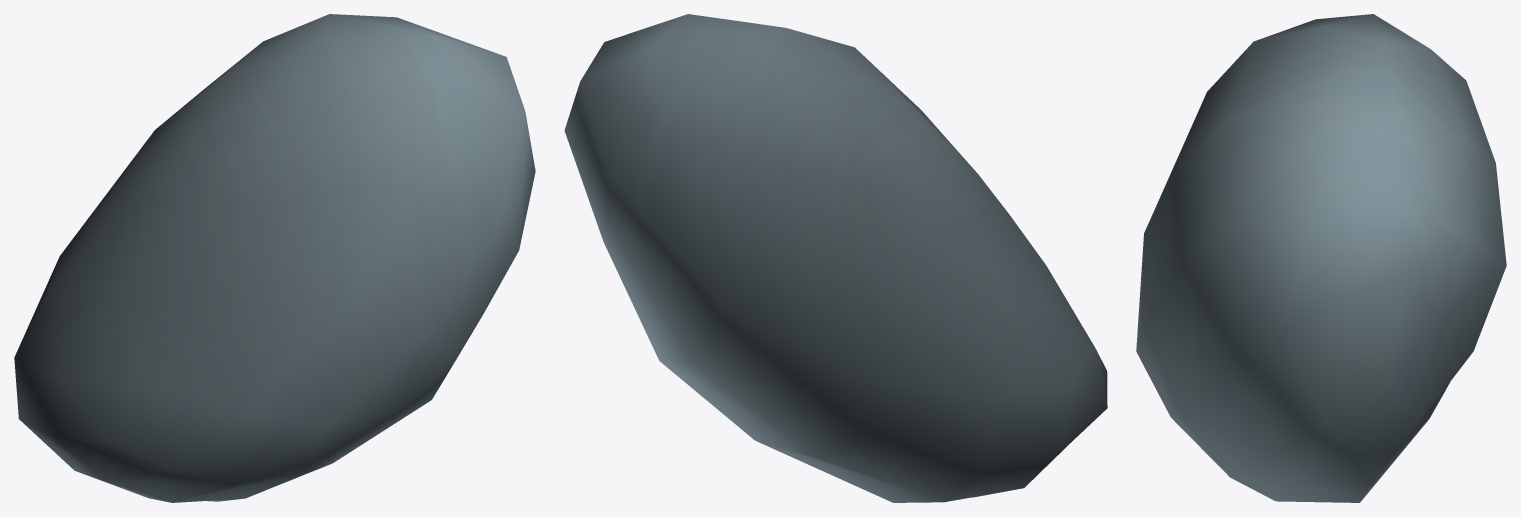
The model's file is Rock-Smooth-2.fbx.
The picture shows the model from 3 angles, left to right: view 1: azimuth 30°, elevation 25°; view 2: azimuth 150°, elevation 25°; view 3: azimuth 270°, elevation 25°; orthographic projection. The views are drawn at different scales.
Parts seen in each view (by area): view 1: Rock-Smooth-2; view 2: Rock-Smooth-2; view 3: Rock-Smooth-2.
Part boxes in pixels (x1,y1,x2,y2): Rock-Smooth-2: (14, 14, 535, 502); Rock-Smooth-2: (564, 14, 1107, 502); Rock-Smooth-2: (1136, 14, 1506, 502).
Bounding box in the file's own units: 171 × 140 × 94.15.
